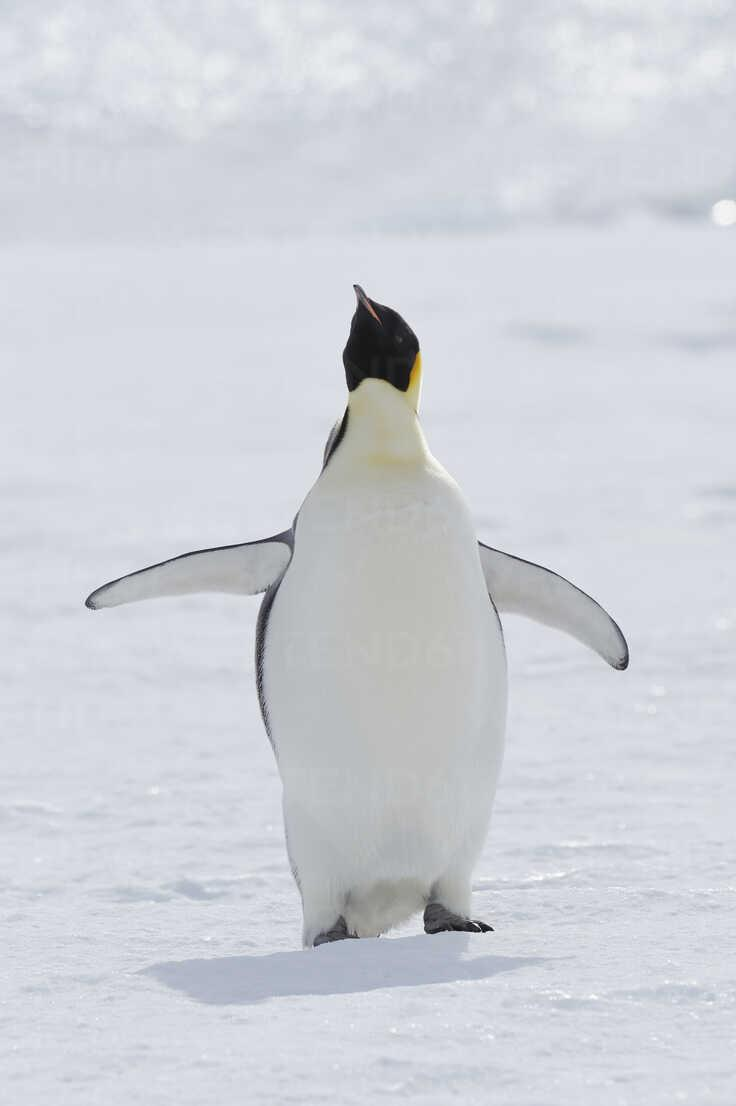emporer: (111, 263, 623, 977)
